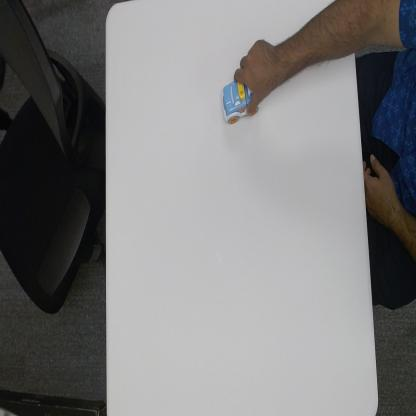Arm: (278, 0, 354, 84)
Car: (222, 80, 260, 125)
Hand: (233, 36, 280, 114)
